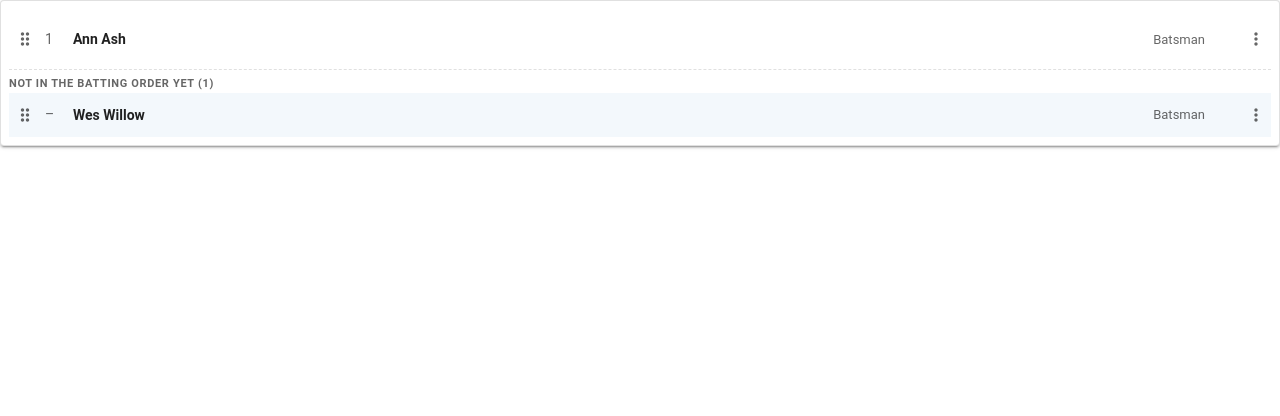
Test: TeamSelectionList › the batting position spinner › words the full reason without the 12th man when none is allowed
Click the button "Wes Willow" at (109, 114), box [69, 96, 149, 132]
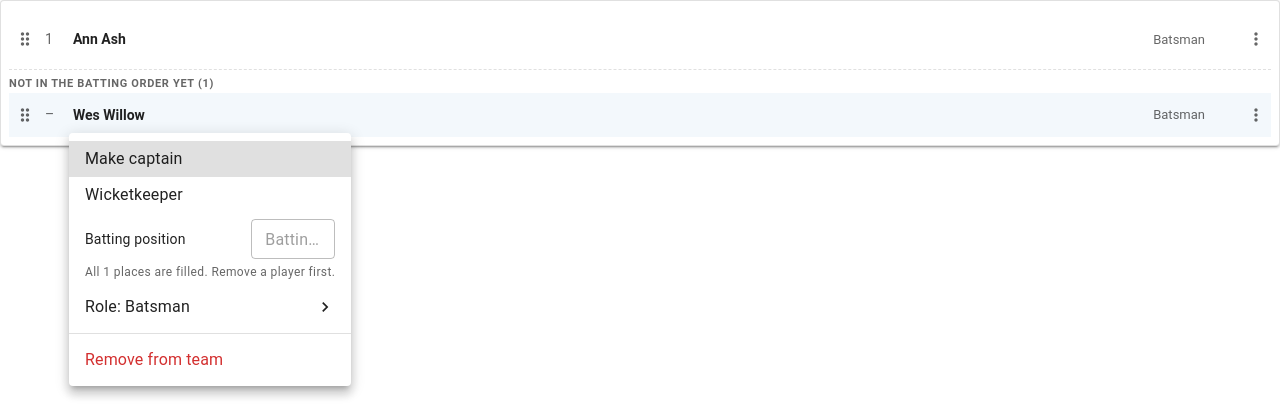
expect the text "All 1 places are filled. Remove a player first." is shown: met, box [85, 263, 335, 283]
